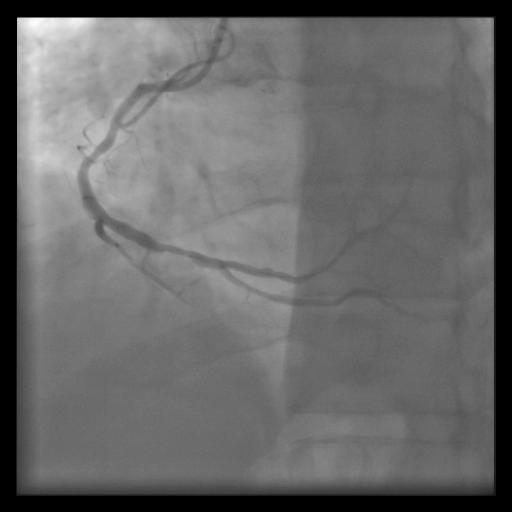Stenosis: (153, 232, 205, 271)
